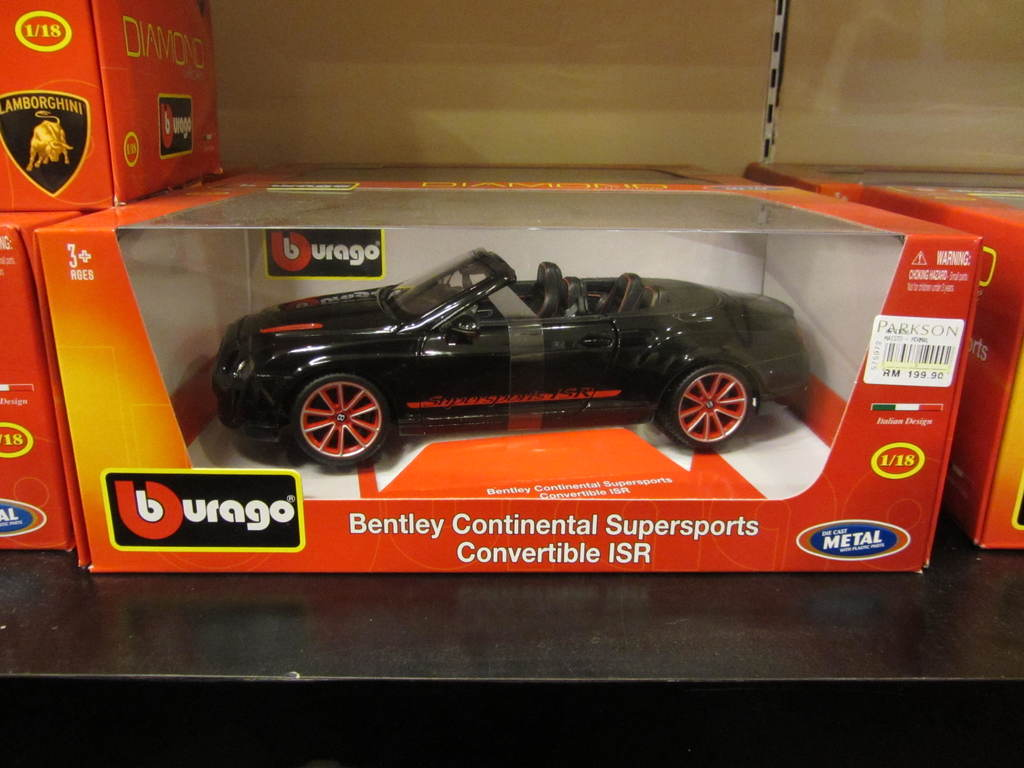Car: (199, 236, 827, 477)
